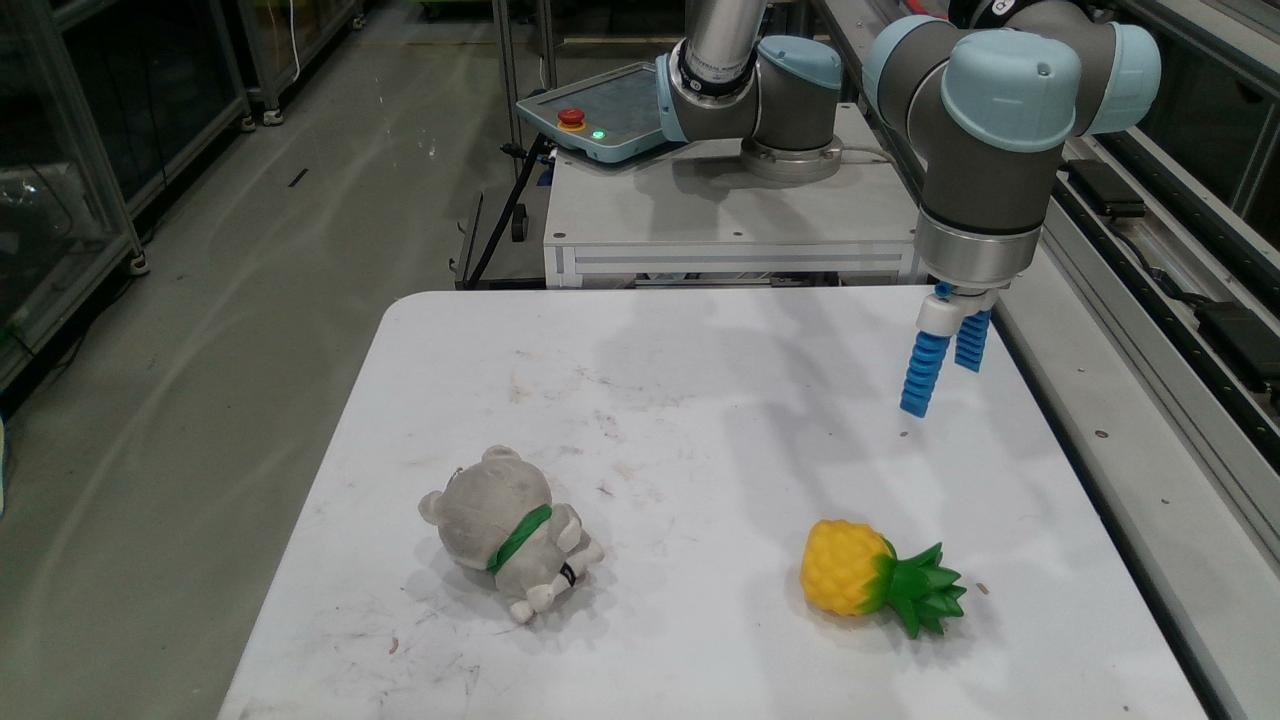UR5: (864, 0, 1161, 336), (654, 0, 844, 182)
gripper_left: (900, 331, 951, 419)
gripper_right: (955, 307, 992, 371)
target: (417, 444, 604, 622), (798, 519, 968, 640)
